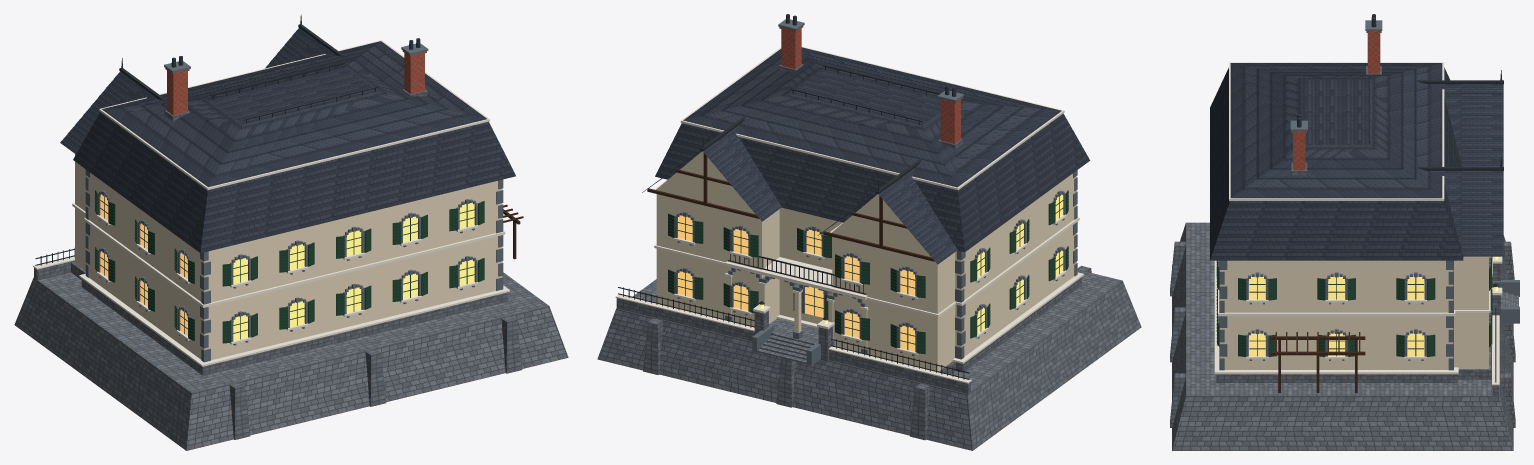
Rendered from fv_tvv_04_trieu_viet_vuong_36_mansard_forest_manor.glb.
The picture shows the model from 3 angles, left to right: view 1: azimuth 30°, elevation 25°; view 2: azimuth 150°, elevation 25°; view 3: azimuth 270°, elevation 25°; orthographic projection.
Visible parts, largest first — view 1: Normandy_Brittany_Layered_Roof, Foundation_Skirt_Neg3p5m, Villa_Stucco_Walls, Molded_Cornices_And_Sills, PineGreen_Louvered_Shutters, Stone_Quoins_And_Arches, Warm_Night_Windows_20h00_Blend, Brick_Chimney_Stacks, Wrought_Iron_Balustrades_And_Gate, Roof_Ridges_Caps_And_Finials; view 2: Normandy_Brittany_Layered_Roof, Foundation_Skirt_Neg3p5m, Villa_Stucco_Walls, Molded_Cornices_And_Sills, Stone_Quoins_And_Arches, PineGreen_Louvered_Shutters, Warm_Night_Windows_20h00_Blend, Wrought_Iron_Balustrades_And_Gate, Exposed_Timber_Trusses_And_Rafters, Brick_Chimney_Stacks, Roof_Ridges_Caps_And_Finials; view 3: Normandy_Brittany_Layered_Roof, Foundation_Skirt_Neg3p5m, Villa_Stucco_Walls, Molded_Cornices_And_Sills, Stone_Quoins_And_Arches, PineGreen_Louvered_Shutters, Warm_Night_Windows_20h00_Blend, Exposed_Timber_Trusses_And_Rafters, Brick_Chimney_Stacks, Roof_Ridges_Caps_And_Finials.
Part boxes in pixels (x1,y1,x2,y2): Normandy_Brittany_Layered_Roof: (60,28,515,253); Foundation_Skirt_Neg3p5m: (14,89,568,450); Villa_Stucco_Walls: (75,154,502,360); Molded_Cornices_And_Sills: (33,40,509,366); PineGreen_Louvered_Shutters: (94,190,484,343); Stone_Quoins_And_Arches: (85,43,503,362); Warm_Night_Windows_20h00_Blend: (100,194,474,340); Brick_Chimney_Stacks: (165,50,426,115); Wrought_Iron_Balustrades_And_Gate: (35,63,378,265); Roof_Ridges_Caps_And_Finials: (119,14,344,100); Normandy_Brittany_Layered_Roof: (645,14,1089,264); Foundation_Skirt_Neg3p5m: (597,64,1141,450); Villa_Stucco_Walls: (656,151,1076,371); Molded_Cornices_And_Sills: (615,46,1084,383); Stone_Quoins_And_Arches: (674,19,1077,365); PineGreen_Louvered_Shutters: (668,190,1068,354); Warm_Night_Windows_20h00_Blend: (678,194,1063,351); Wrought_Iron_Balustrades_And_Gate: (618,65,969,379); Exposed_Timber_Trusses_And_Rafters: (647,153,934,261); Brick_Chimney_Stacks: (779,26,962,143); Roof_Ridges_Caps_And_Finials: (642,117,921,235); Normandy_Brittany_Layered_Roof: (1210,14,1503,260); Foundation_Skirt_Neg3p5m: (1170,66,1518,450); Villa_Stucco_Walls: (1220,257,1488,369); Molded_Cornices_And_Sills: (1214,62,1502,385); Stone_Quoins_And_Arches: (1217,20,1519,370); PineGreen_Louvered_Shutters: (1216,257,1492,356); Warm_Night_Windows_20h00_Blend: (1249,256,1498,356); Exposed_Timber_Trusses_And_Rafters: (1270,93,1497,392); Brick_Chimney_Stacks: (1291,31,1381,170); Roof_Ridges_Caps_And_Finials: (1417,70,1503,170).
Bounding box in the file's own units: 28.73 × 20.9 × 22.53.
Materials: 12 (3 with a texture image).
